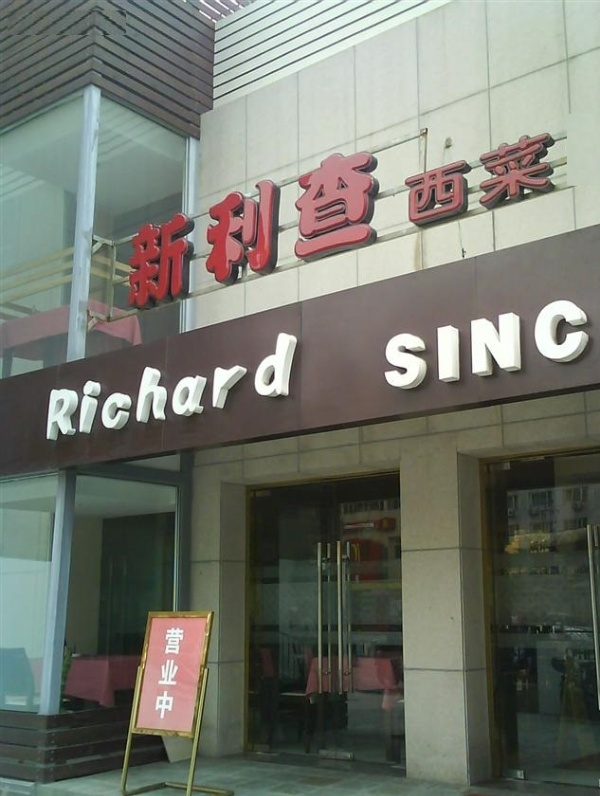text: (129, 143, 144, 314), (145, 143, 160, 314), (161, 143, 176, 314), (177, 143, 192, 314), (193, 143, 208, 314), (209, 143, 224, 314), (225, 143, 240, 314), (241, 143, 256, 314), (257, 143, 272, 314), (273, 143, 288, 314), (289, 143, 304, 314), (305, 143, 320, 314), (321, 143, 336, 314), (337, 143, 352, 314), (353, 143, 368, 314), (49, 327, 64, 445), (65, 327, 80, 445), (81, 327, 96, 445), (97, 327, 112, 445), (113, 327, 128, 445), (129, 327, 144, 445), (145, 327, 160, 445), (161, 327, 176, 445), (177, 327, 192, 445), (193, 327, 208, 445), (209, 327, 224, 445), (225, 327, 240, 445), (241, 327, 256, 445), (257, 327, 272, 445), (273, 327, 288, 445), (401, 127, 416, 232), (417, 127, 432, 232), (433, 127, 448, 232), (449, 127, 464, 232), (465, 127, 480, 232), (481, 127, 496, 232), (497, 127, 512, 232), (513, 127, 528, 232), (529, 127, 544, 232), (385, 293, 400, 396), (401, 293, 416, 396), (417, 293, 432, 396), (433, 293, 448, 396), (449, 293, 464, 396), (465, 293, 480, 396), (481, 293, 496, 396), (497, 293, 512, 396), (513, 293, 528, 396), (529, 293, 544, 396), (545, 293, 560, 396), (561, 293, 576, 396), (545, 127, 559, 232), (577, 293, 590, 396), (369, 143, 376, 314), (289, 327, 298, 445), (166, 627, 176, 723), (177, 627, 187, 723), (382, 293, 384, 396), (47, 327, 48, 445)
